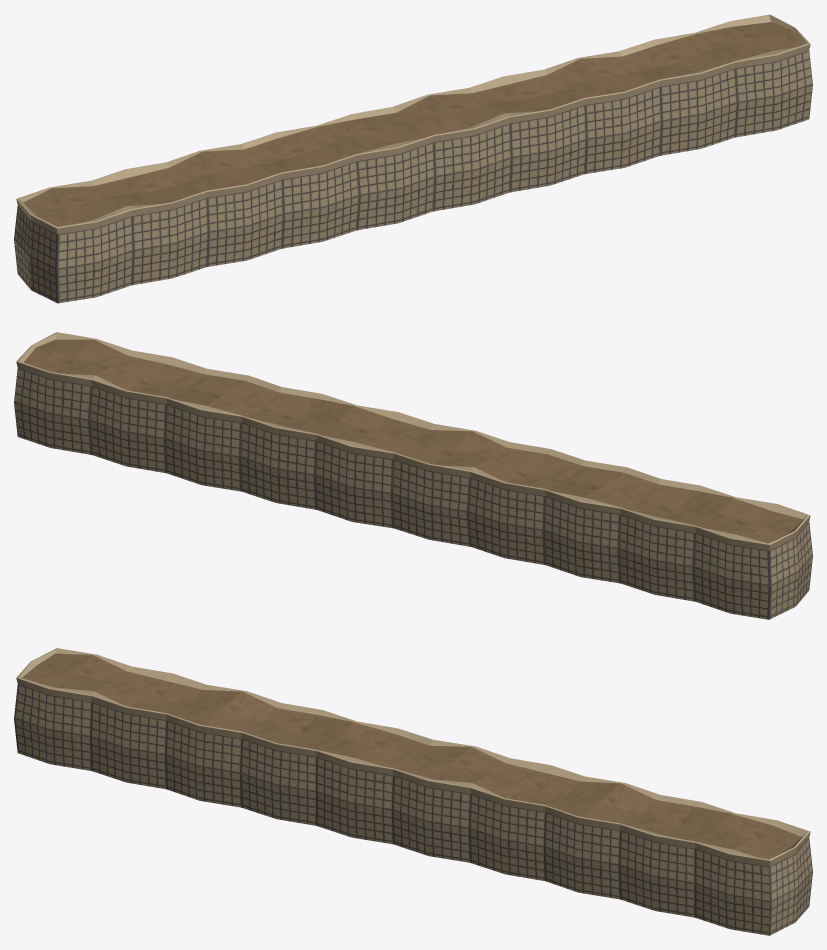
Rendered from SM_Prop_Barrier_Base_Row_03.fbx.
3 renders of one model, top to bottom at view 1: azimuth 30°, elevation 25°; view 2: azimuth 150°, elevation 25°; view 3: azimuth 330°, elevation 25°, orthographic.
Parts seen in each view (by area): view 1: SM_Prop_Barrier_Base_Row_03; view 2: SM_Prop_Barrier_Base_Row_03; view 3: SM_Prop_Barrier_Base_Row_03.
Part boxes in pixels (box(x1,y1,x2,y2)): SM_Prop_Barrier_Base_Row_03: box(14, 14, 812, 303); SM_Prop_Barrier_Base_Row_03: box(14, 332, 812, 619); SM_Prop_Barrier_Base_Row_03: box(14, 648, 812, 935).
Size of the model in its own units: 1096 by 105 by 123.
